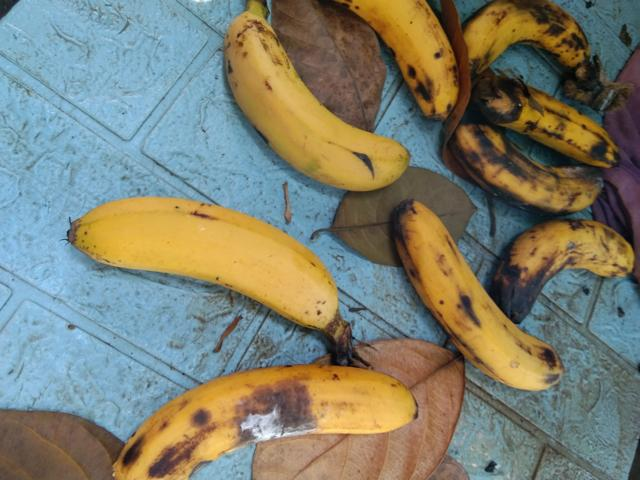freshripe: (50, 192, 379, 390)
ripe: (209, 0, 414, 188), (392, 198, 572, 399), (339, 0, 457, 109)
rotten: (104, 354, 425, 479), (484, 68, 635, 171), (486, 207, 626, 309), (446, 127, 613, 209), (444, 2, 595, 81)
